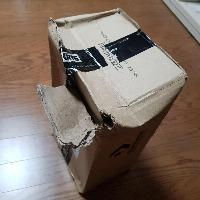damaged package: (36, 63, 114, 151)
undamaged: (34, 5, 190, 197)
